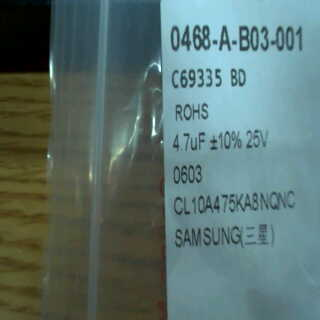4.7uF: (171, 129, 207, 156)
